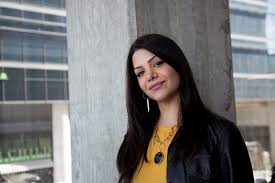middle_eastern_Female: (131, 37, 180, 100)
